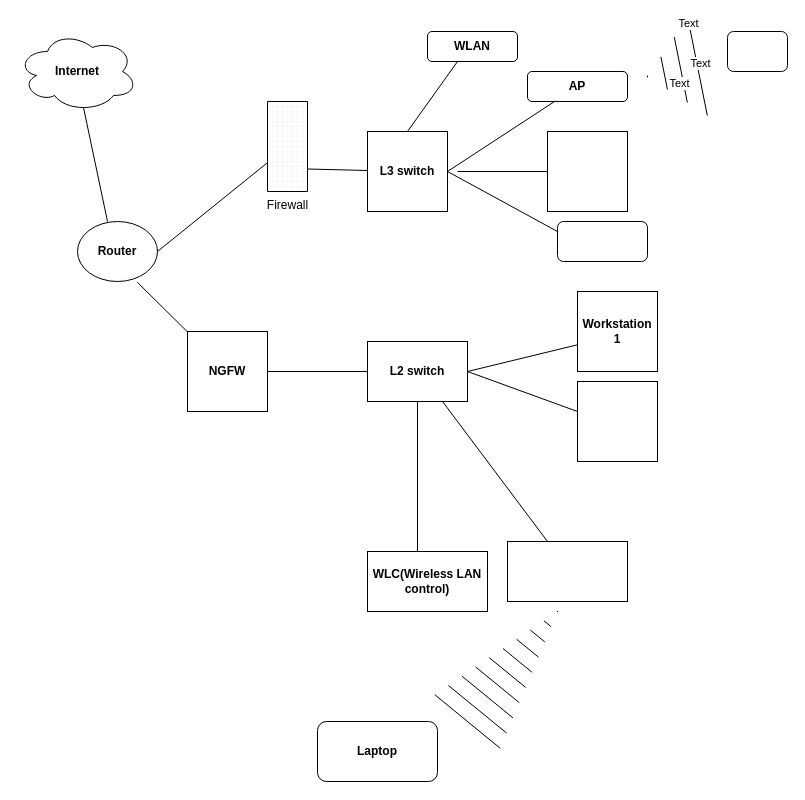
Image size: 805x800. Some labels were removed from this diagram. The box of each missing label's shape, as (x1, y1, x2, y2) in pixels:
Access Point(AP): (506, 540, 628, 602)
File Server: (556, 220, 648, 262)
Storage server: (546, 130, 628, 212)
Tablet: (726, 30, 788, 72)
Workstation 2: (576, 380, 658, 462)
